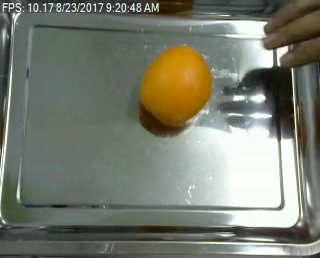Orange: (139, 45, 213, 124)
